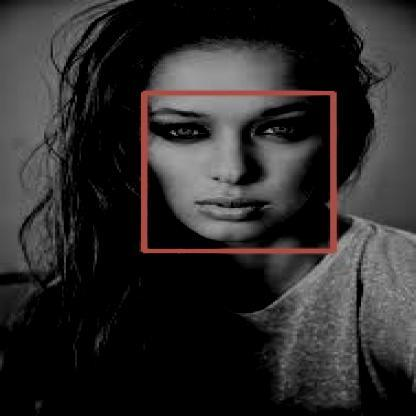without_mask: (143, 92, 332, 250)
